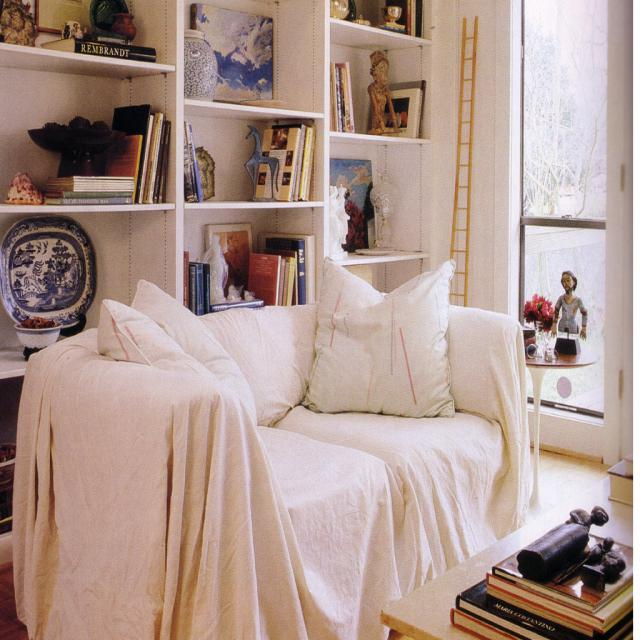2001: (522, 2, 608, 421)
book case: (41, 37, 154, 60), (608, 452, 634, 509)
books crop: (450, 559, 633, 638), (251, 122, 318, 205), (114, 107, 172, 201), (247, 231, 317, 308), (186, 122, 208, 207), (184, 249, 213, 313), (332, 61, 357, 134), (397, 80, 424, 139)
bookshelf: (1, 3, 437, 565)
bowl -X: (380, 8, 402, 22)
bowl of apples: (25, 114, 127, 176)
bowl of garlic: (16, 318, 61, 347)
coffee table: (379, 458, 632, 640)
couch -x: (12, 252, 535, 640)
dish -X: (1, 217, 99, 353), (89, 2, 139, 42)
dish crop: (3, 170, 51, 205), (196, 147, 216, 198)
door bars: (617, 2, 632, 454)
figure: (551, 267, 592, 359), (363, 51, 402, 138), (202, 235, 241, 308)
figures: (516, 507, 619, 585)
glass jar: (329, 1, 349, 18)
horse statue: (241, 127, 283, 203)
ladder crop: (449, 18, 481, 306)
lid: (352, 12, 372, 26)
painting crop: (191, 4, 275, 104)
picture crop: (36, 2, 88, 28)
pillow occluded: (304, 254, 459, 421), (98, 278, 261, 432)
sculpture occluded: (3, 2, 35, 51)
side: (515, 266, 601, 512)
stack of books: (42, 177, 132, 206)
vase -X: (369, 166, 400, 255), (185, 29, 219, 101), (61, 20, 81, 37)
